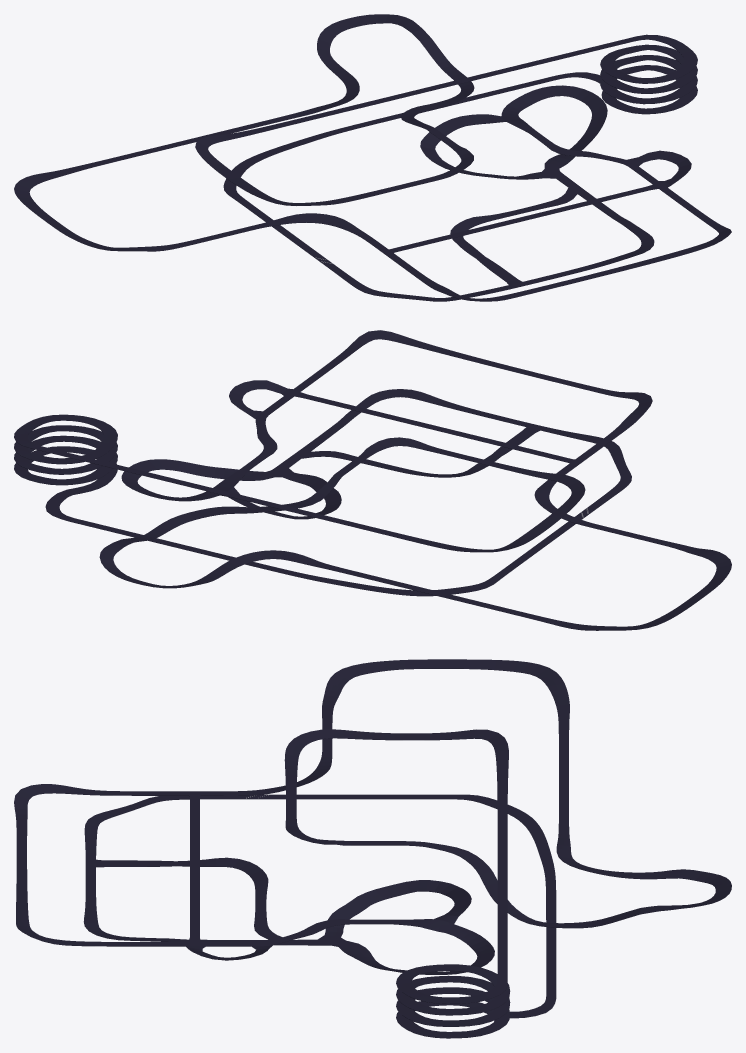
Rendered from GolisanoHall_V1.1_Greybox_TEST_Track.fbx.
The picture shows the model from 3 angles, top to bottom: view 1: azimuth 30°, elevation 25°; view 2: azimuth 150°, elevation 25°; view 3: azimuth 270°, elevation 25°; orthographic projection. The views are drawn at different scales.
Parts seen in each view (by area): view 1: 1F_RampRight, 2F_CurvedHall, 3F_CannonPath, 1F_RampLeft, 3F_Spiral1, 2F_IGMLabLoop, 2F_Shortcut, 2F_FloatingPath, 3F_Spiral2, 3F_Spiral3, 3F_SpiralEnd, 1F_FinalCurve (+16 smaller); view 2: 1F_RampRight, 2F_CurvedHall, 3F_CannonPath, 2F_FloatingPath, 3F_Spiral1, 2F_Shortcut, 3F_Spiral2, 3F_Spiral3, 2F_IGMLabLeadup, 1F_FinalCurve, 1F_RampLeft, 2F_SideHall (+19 smaller); view 3: 2F_CurvedHall, 1F_RampLeft, 3F_CannonPath, 1F_RampRight, 2F_FloatingPath, 3F_Spiral1, 3F_Spiral2, 3F_Spiral3, 2F_Shortcut, 1F_Start, 1F_FinalCurve, 3F_SpiralEnd (+16 smaller).
Part boxes in pixels (x1,y1,x2,y2): 1F_RampRight: (501,85,607,166); 2F_CurvedHall: (14,162,188,251); 3F_CannonPath: (256,51,577,132); 1F_RampLeft: (420,114,543,179); 3F_Spiral1: (600,34,697,83); 2F_IGMLabLoop: (317,14,426,64); 2F_Shortcut: (389,184,658,252); 2F_FloatingPath: (400,34,474,123); 3F_Spiral2: (600,44,697,93); 3F_Spiral3: (600,55,697,104); 3F_SpiralEnd: (601,65,697,114); 1F_FinalCurve: (223,127,350,197); 1F_RampRight: (121,459,262,501); 2F_CurvedHall: (538,541,731,630); 3F_CannonPath: (95,460,429,544); 2F_FloatingPath: (118,488,331,544); 3F_Spiral1: (14,414,117,464); 2F_Shortcut: (294,392,574,463); 3F_Spiral2: (14,425,117,474); 3F_Spiral3: (14,435,117,485); 2F_IGMLabLeadup: (201,550,333,580); 1F_FinalCurve: (288,571,497,596); 1F_RampLeft: (220,472,341,519); 2F_SideHall: (412,340,609,394); 2F_CurvedHall: (322,659,569,722); 1F_RampLeft: (324,880,471,937); 3F_CannonPath: (497,774,508,950); 1F_RampRight: (341,919,494,974); 2F_FloatingPath: (434,843,650,928); 3F_Spiral1: (396,964,509,1003); 3F_Spiral2: (396,975,510,1015); 3F_Spiral3: (396,987,510,1026); 2F_Shortcut: (188,795,200,941); 1F_Start: (200,794,455,799); 1F_FinalCurve: (455,794,555,881); 3F_SpiralEnd: (396,1001,510,1038).
Bounding box in the file's own units: 334577 × 23164 × 283359.
